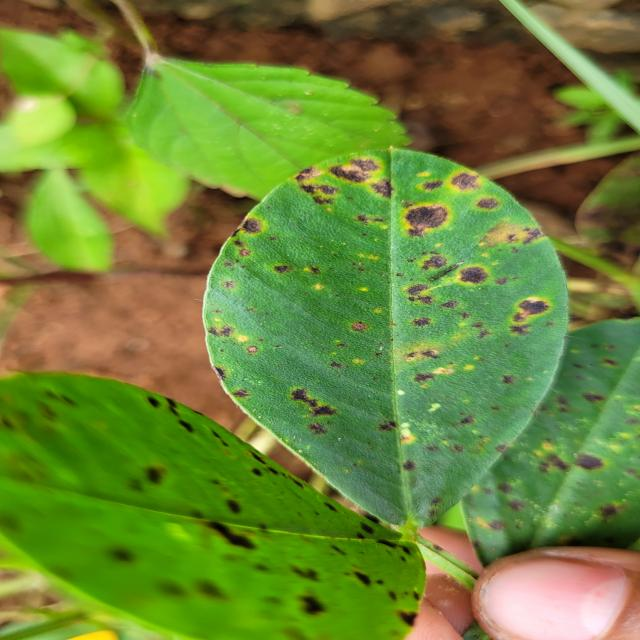Ground nut_tikka leaf spot: (210, 140, 580, 520)
